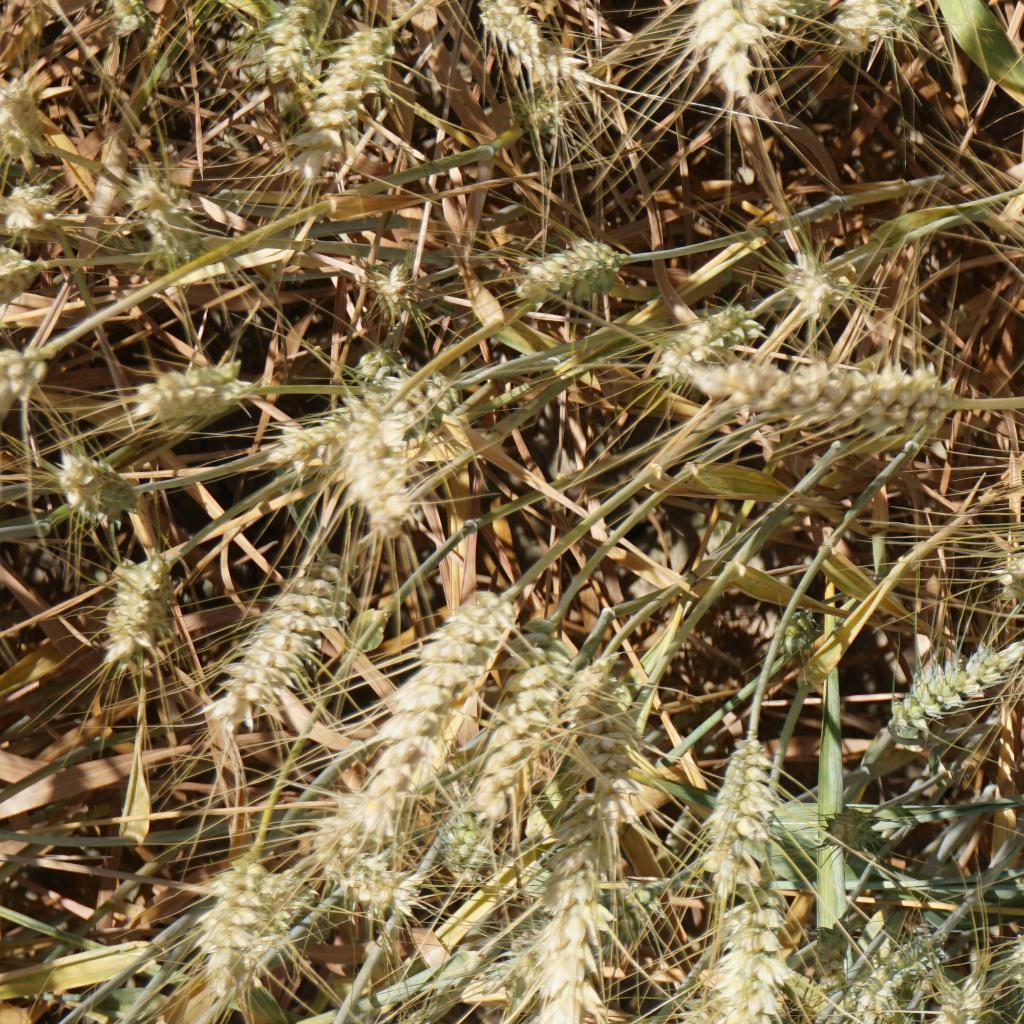0-0: (372, 576, 540, 788), (205, 550, 364, 740), (258, 360, 487, 486), (698, 352, 976, 452), (482, 875, 667, 1001), (476, 611, 585, 797), (530, 798, 608, 1024), (880, 639, 1024, 752), (693, 737, 777, 882), (294, 28, 384, 162), (299, 765, 427, 857), (332, 427, 430, 541), (99, 545, 184, 674), (712, 888, 782, 1024), (558, 671, 642, 783), (39, 446, 147, 529), (120, 167, 208, 258), (118, 359, 251, 419), (843, 930, 937, 1013), (336, 331, 412, 433), (659, 300, 762, 373), (195, 849, 253, 977), (478, 3, 571, 80), (267, 0, 355, 79), (691, 0, 764, 95), (430, 803, 507, 883), (244, 870, 315, 950), (527, 235, 622, 294), (0, 166, 77, 238), (332, 845, 413, 913), (0, 75, 67, 157), (493, 77, 578, 141), (822, 799, 888, 869), (776, 244, 840, 315), (809, 912, 858, 999), (769, 602, 827, 667), (365, 259, 428, 317), (0, 335, 52, 404), (837, 0, 907, 39), (942, 973, 995, 1024), (95, 0, 150, 44), (992, 489, 1024, 560), (750, 0, 821, 25), (0, 244, 28, 295), (1011, 919, 1024, 1004)
